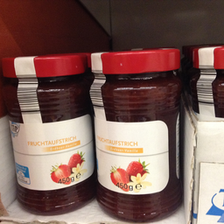jam: (89, 48, 186, 223), (2, 54, 96, 216)
